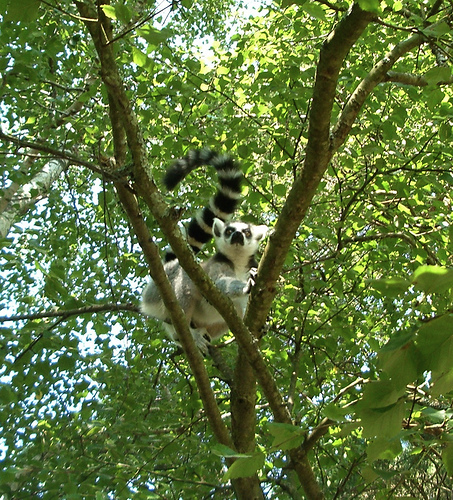cat: (140, 147, 269, 356)
